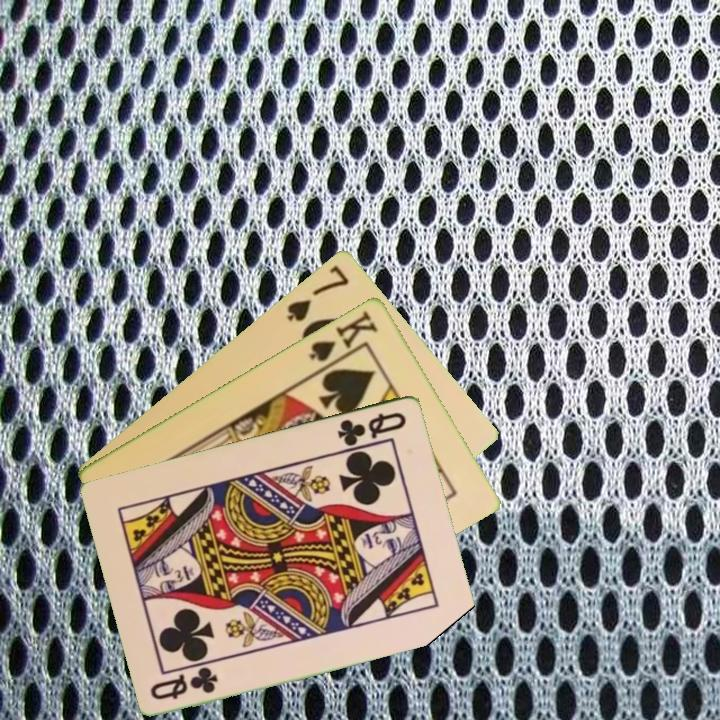7s: (283, 261, 352, 324)
Ks: (305, 305, 381, 372)
Qc: (334, 408, 410, 449), (147, 664, 221, 702)
